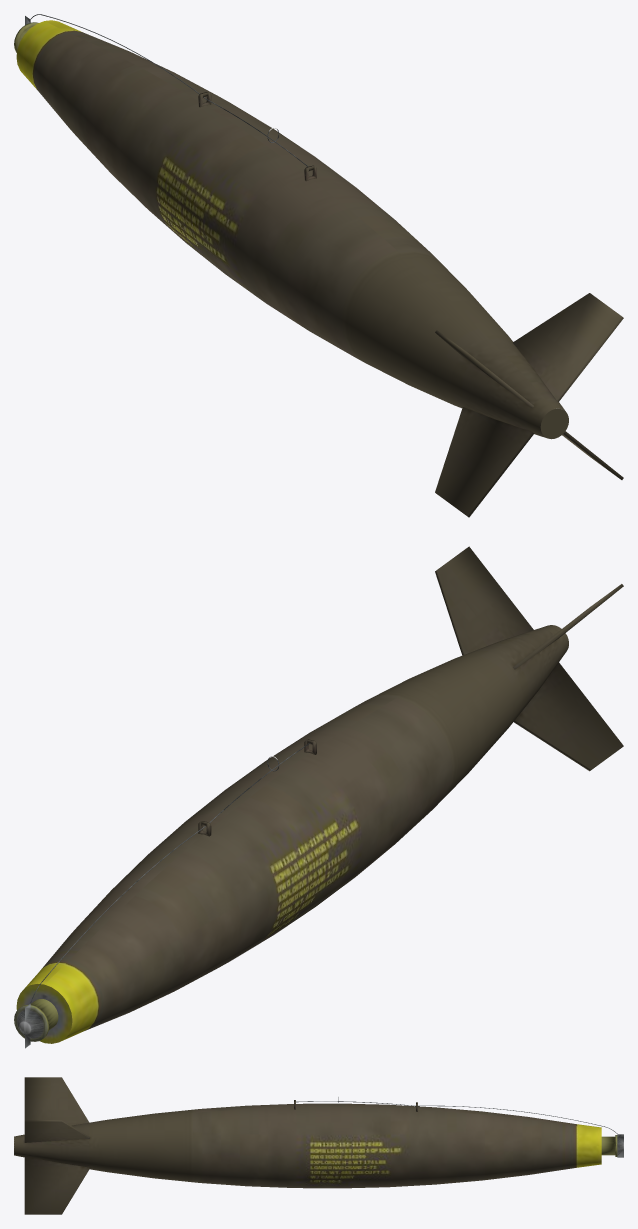
The picture shows the model from 3 angles, top to bottom: view 1: azimuth 30°, elevation 25°; view 2: azimuth 150°, elevation 25°; view 3: azimuth 270°, elevation 25°; orthographic projection. The views are drawn at different scales.
Parts seen in each view (by area): view 1: mk84_body; view 2: mk84_body; view 3: mk84_body.
Part boxes in pixels (x1,y1,x2,y2): mk84_body: [14, 14, 623, 517]; mk84_body: [14, 546, 623, 1048]; mk84_body: [14, 1077, 623, 1214].
Bounding box in the file's own units: 0.6719 × 0.7044 × 3.93.
Materials: 1 (1 with a texture image).
